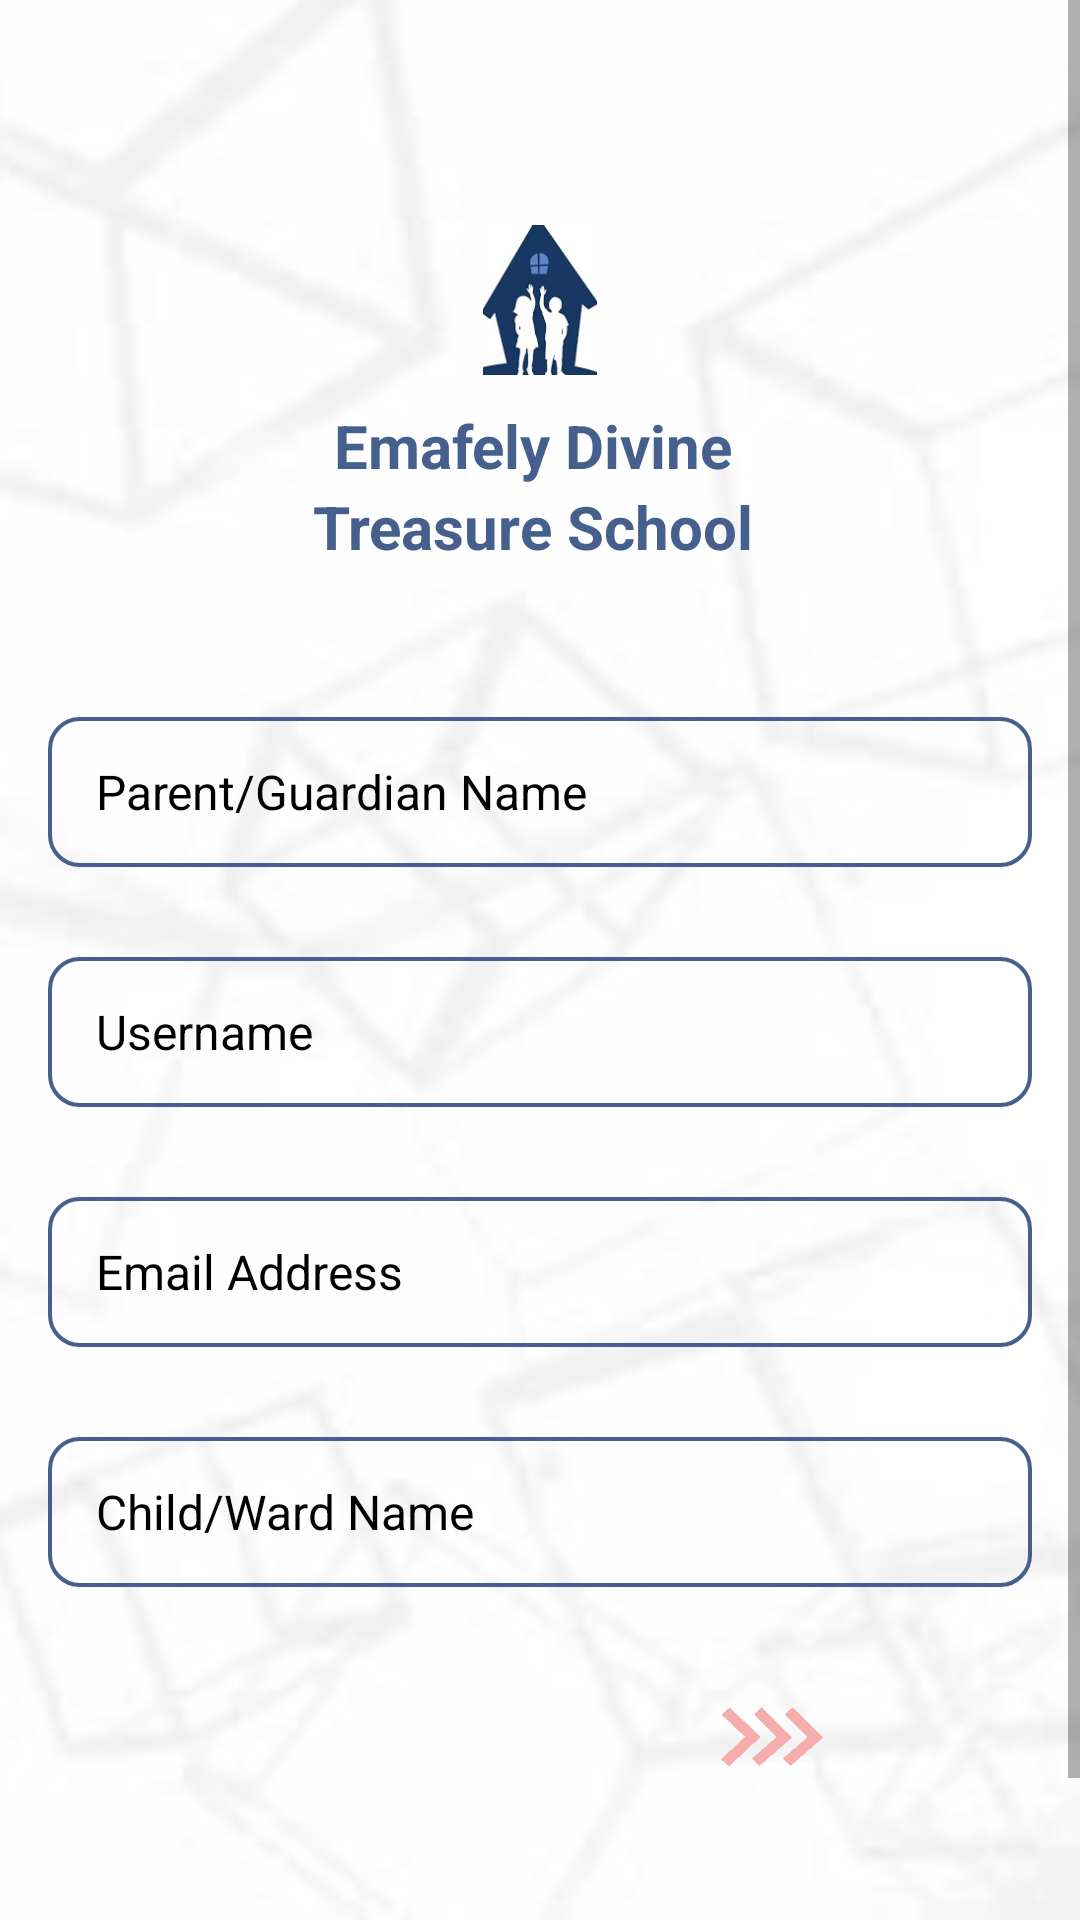

Screen size 1080 × 1920. Icon name, then its center in pixels as [x,y]:
arrow group: [772,1736]
